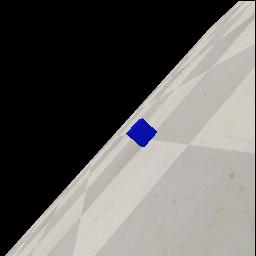box: (126, 118, 157, 147)
